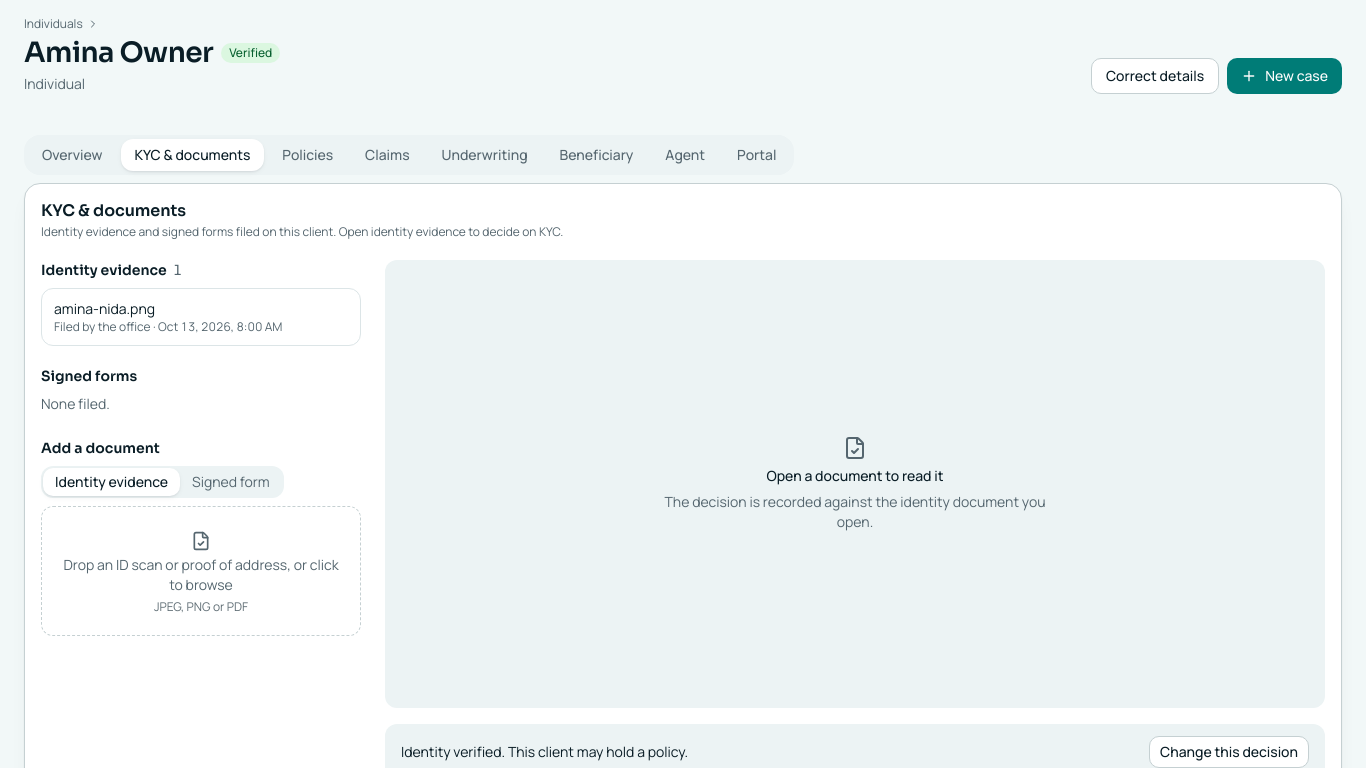
Scenario: PartyDetailPage › puts the decision controls away once the client is verified
Expected: the text "Identity verified. This client may hold a policy." is shown, [401,742,688,762]
Expected: the button "Verify" is not shown
# Reversible, so the act is reachable — behind an explicit click, not left armed.
Click the button "Change this decision" at (1229, 752), box [1149,736,1309,767]
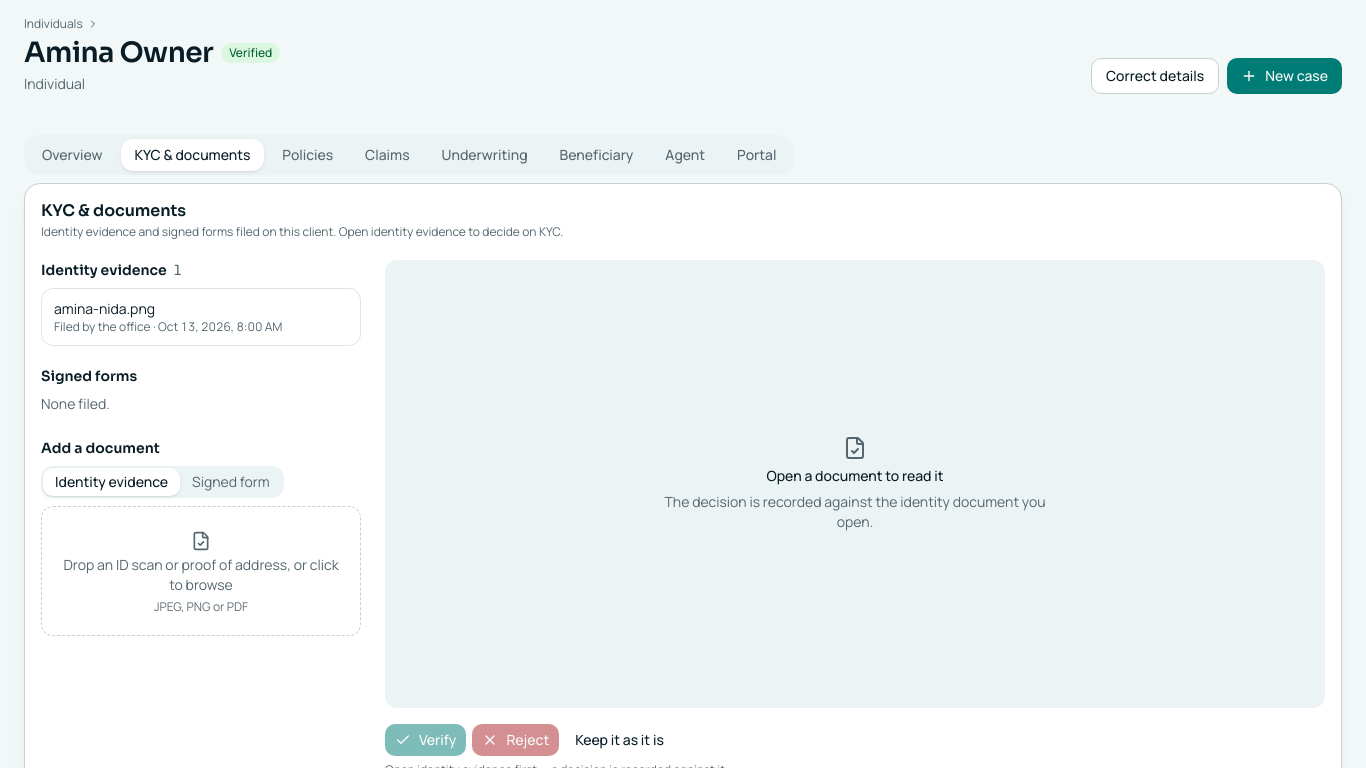
Result: the button "Reject" is shown at [472,724,559,756]
Result: the button "Verify" is disabled at [385,724,466,756]
